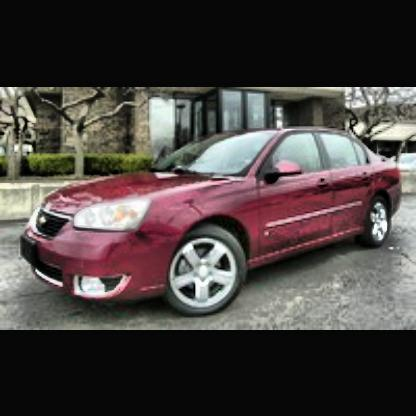Chevrolet Malibu Sedan 2007: (20, 127, 408, 324)
